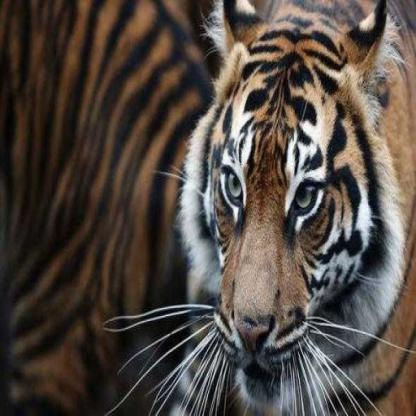Tiger: (163, 0, 415, 415)
